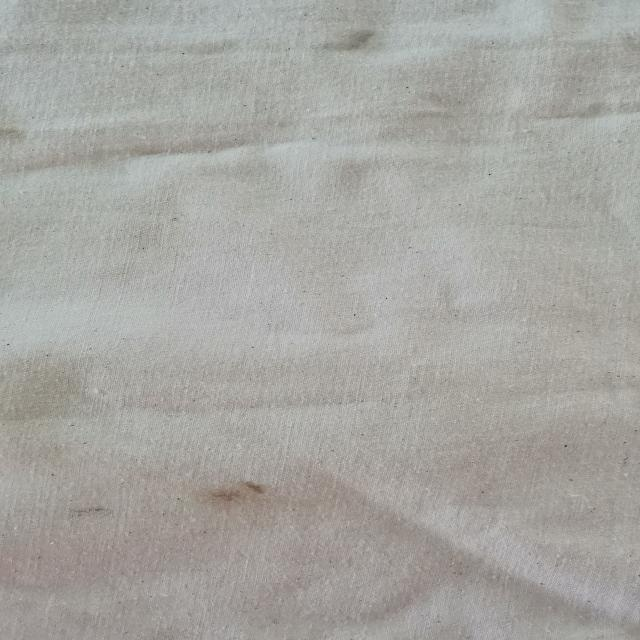taaaches: (188, 464, 291, 520), (301, 21, 400, 69), (38, 488, 140, 531)
